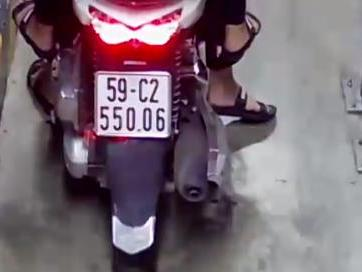num_plate: (92, 71, 173, 138)
